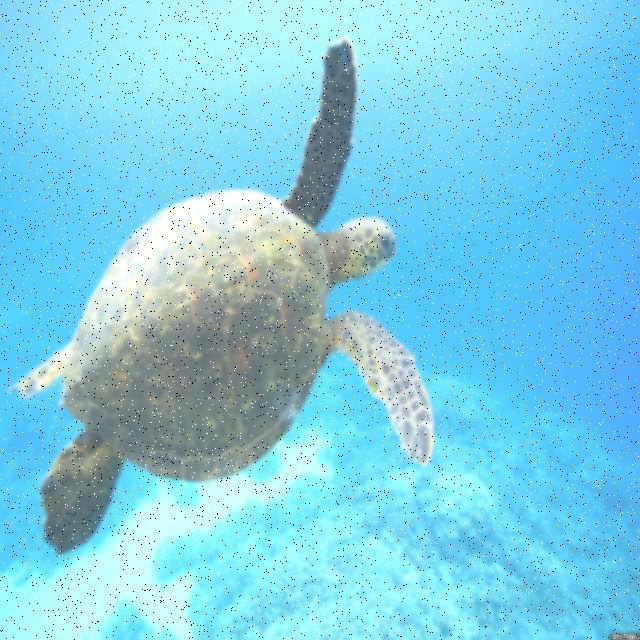tortoise: (15, 33, 449, 579)
